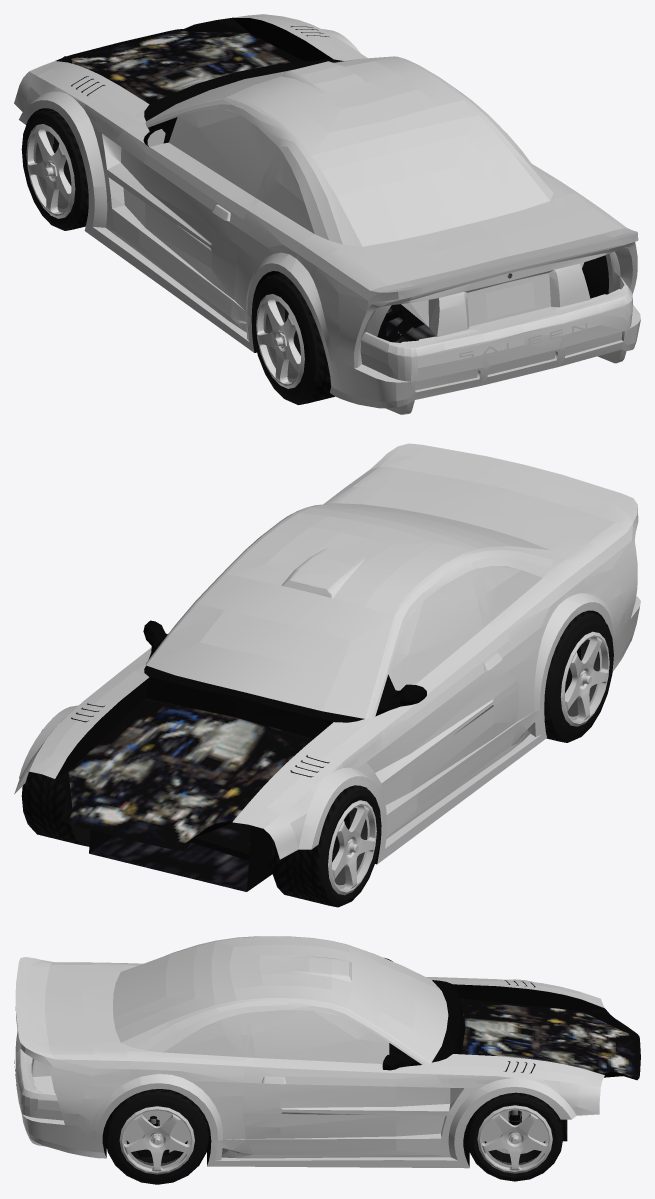
The model's file is MC3_VP_SALEEN_SR_00.glb.
3 views of the same model, one above another, from view 1: azimuth 30°, elevation 25°; view 2: azimuth 150°, elevation 25°; view 3: azimuth 270°, elevation 25° (orthographic). The views are drawn at different scales.
Visible parts, largest first — view 1: vroot_shell_lod_hlod_group_shell_h.mesh, vroot_shell_lod_hlod_group_win_h.mesh, vroot_tk_trunk_lod_trunk_hlod.mesh, whl_12_tire_0, whl_8_rim_0, whl_12_rim_0, whl_8_tire_0, vroot_Suspension_Arm_Rear_L_Rear_L.mesh; view 2: vroot_shell_lod_hlod_group_shell_h.mesh, vroot_shell_lod_hlod_group_win_h.mesh, vroot_tk_trunk_lod_trunk_hlod.mesh, whl_8_tire_0, whl_12_tire_0, whl_8_rim_0, whl_12_rim_0, whl_10_tire_0, vroot_Suspension_Arm_Front_L_Front_L.mesh; view 3: vroot_shell_lod_hlod_group_shell_h.mesh, vroot_shell_lod_hlod_group_win_h.mesh, vroot_tk_trunk_lod_trunk_hlod.mesh, whl_14_tire_0, whl_10_rim_0, whl_14_rim_0, whl_10_tire_0.
Part boxes in pixels (x1,y1,x2,y2): vroot_shell_lod_hlod_group_shell_h.mesh: (14, 14, 640, 414); vroot_shell_lod_hlod_group_win_h.mesh: (147, 59, 549, 246); vroot_tk_trunk_lod_trunk_hlod.mesh: (364, 201, 621, 336); whl_12_tire_0: (251, 272, 334, 404); whl_8_rim_0: (26, 124, 75, 218); whl_12_rim_0: (256, 294, 304, 388); whl_8_tire_0: (21, 108, 88, 230); vroot_Suspension_Arm_Rear_L_Rear_L.mesh: (386, 304, 424, 342); vroot_shell_lod_hlod_group_shell_h.mesh: (14, 443, 640, 891); vroot_shell_lod_hlod_group_win_h.mesh: (146, 503, 548, 718); vroot_tk_trunk_lod_trunk_hlod.mesh: (364, 445, 620, 549); whl_8_tire_0: (271, 785, 381, 907); whl_12_tire_0: (544, 611, 613, 742); whl_8_rim_0: (328, 800, 376, 895); whl_12_rim_0: (560, 631, 609, 726); whl_10_tire_0: (21, 729, 90, 846); vroot_Suspension_Arm_Front_L_Front_L.mesh: (191, 822, 332, 867); vroot_shell_lod_hlod_group_shell_h.mesh: (14, 936, 640, 1168); vroot_shell_lod_hlod_group_win_h.mesh: (113, 942, 448, 1063); vroot_tk_trunk_lod_trunk_hlod.mesh: (15, 962, 120, 1076); whl_14_tire_0: (105, 1089, 209, 1184); whl_10_rim_0: (477, 1105, 552, 1173); whl_14_rim_0: (119, 1106, 194, 1174); whl_10_tire_0: (466, 1092, 563, 1181).
Size of what is drawn, in the model's own units: 1.99 by 1.29 by 4.43.
35 materials, 12 textured.
